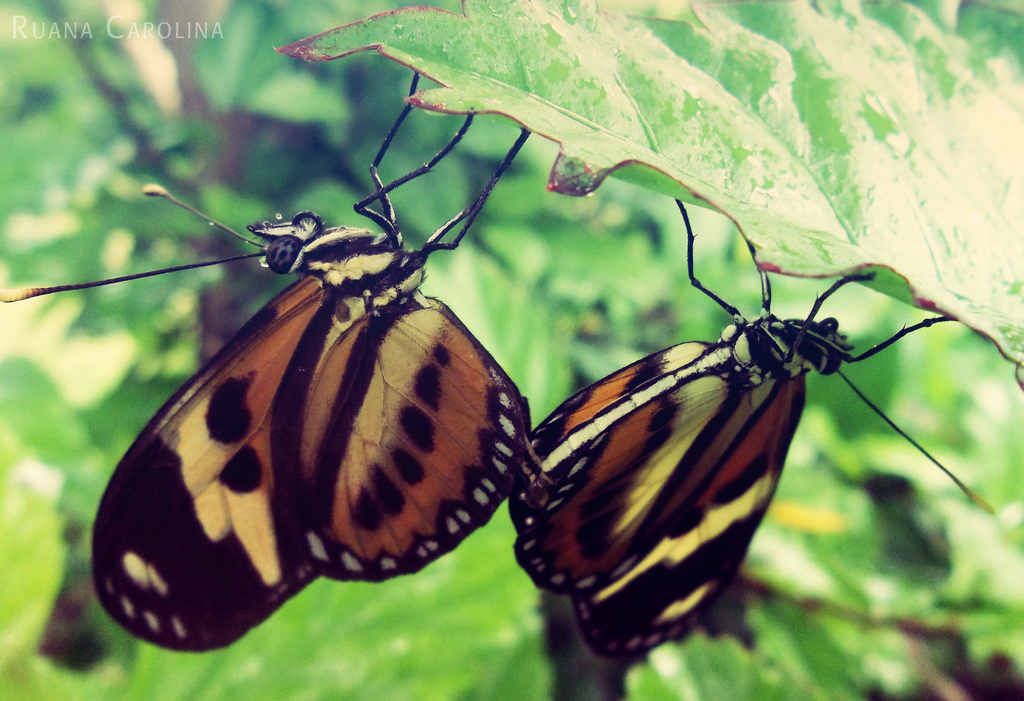Butterfly: (104, 175, 523, 658), (523, 235, 982, 667)
